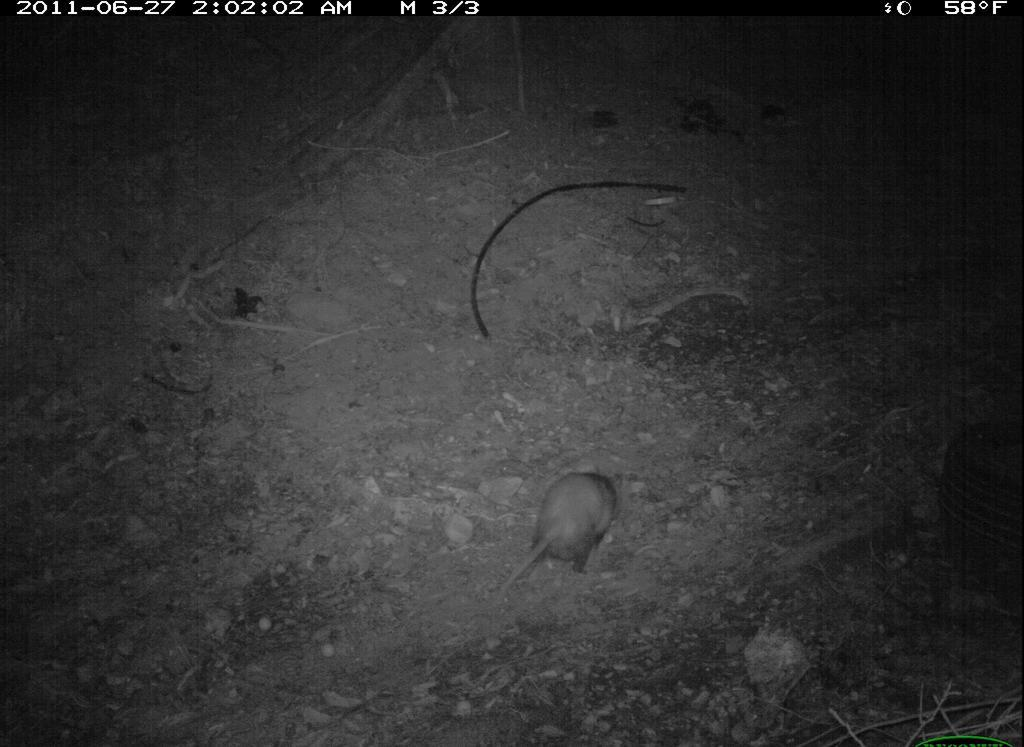opossum: (493, 461, 628, 617)
